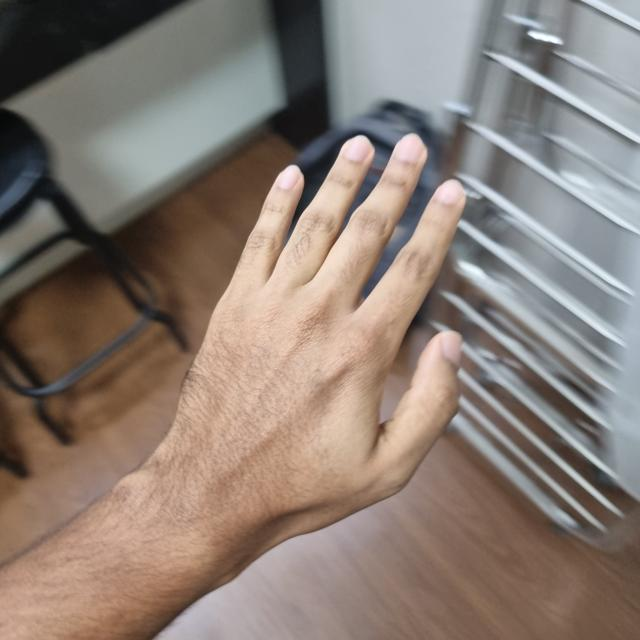Paper: (166, 155, 464, 535)
